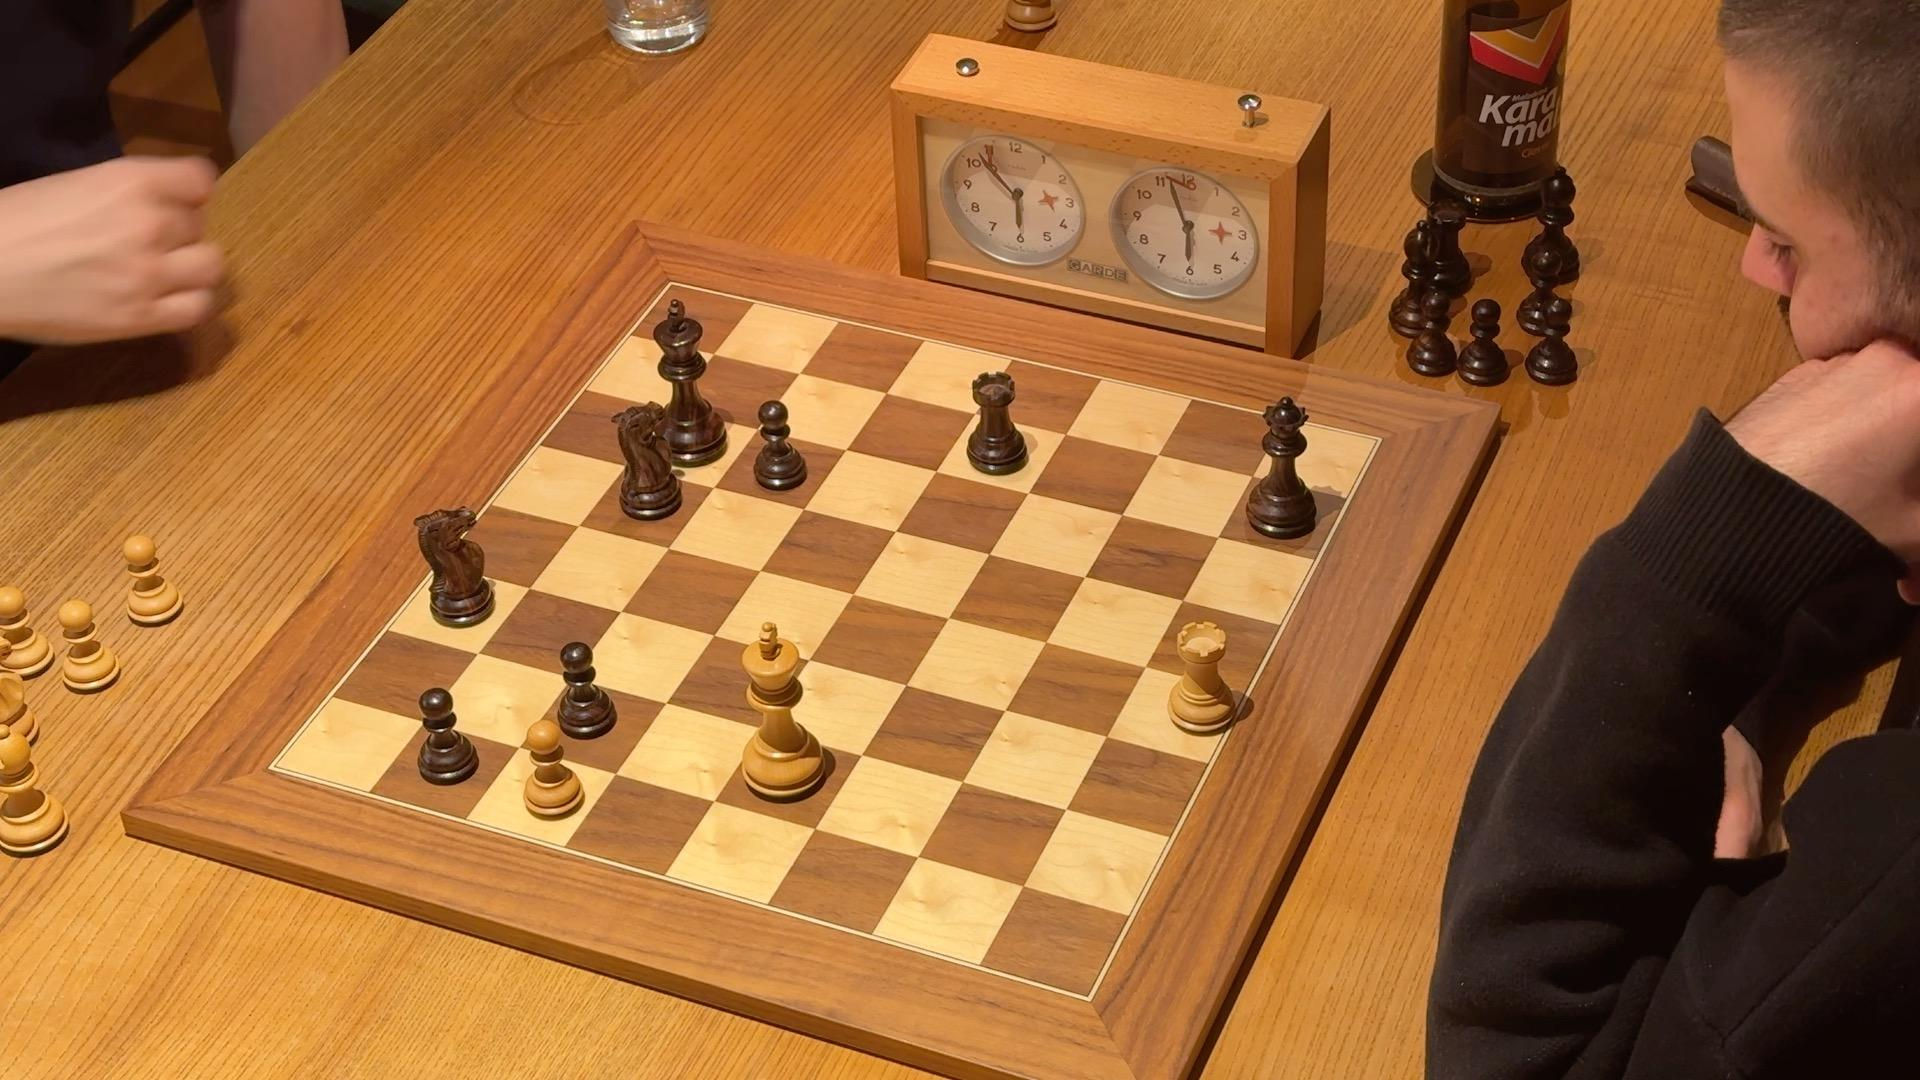Black King: (642, 291, 738, 473)
Black Knight: (407, 496, 508, 636), (599, 400, 698, 533)
Black Pawn: (741, 396, 812, 505), (409, 684, 483, 789), (549, 636, 618, 742)
Black Queen: (1238, 392, 1331, 547)
Black Rook: (959, 364, 1036, 483)
White King: (732, 618, 837, 806)
White Pawn: (510, 715, 589, 829)
White Rook: (1162, 617, 1245, 742)
